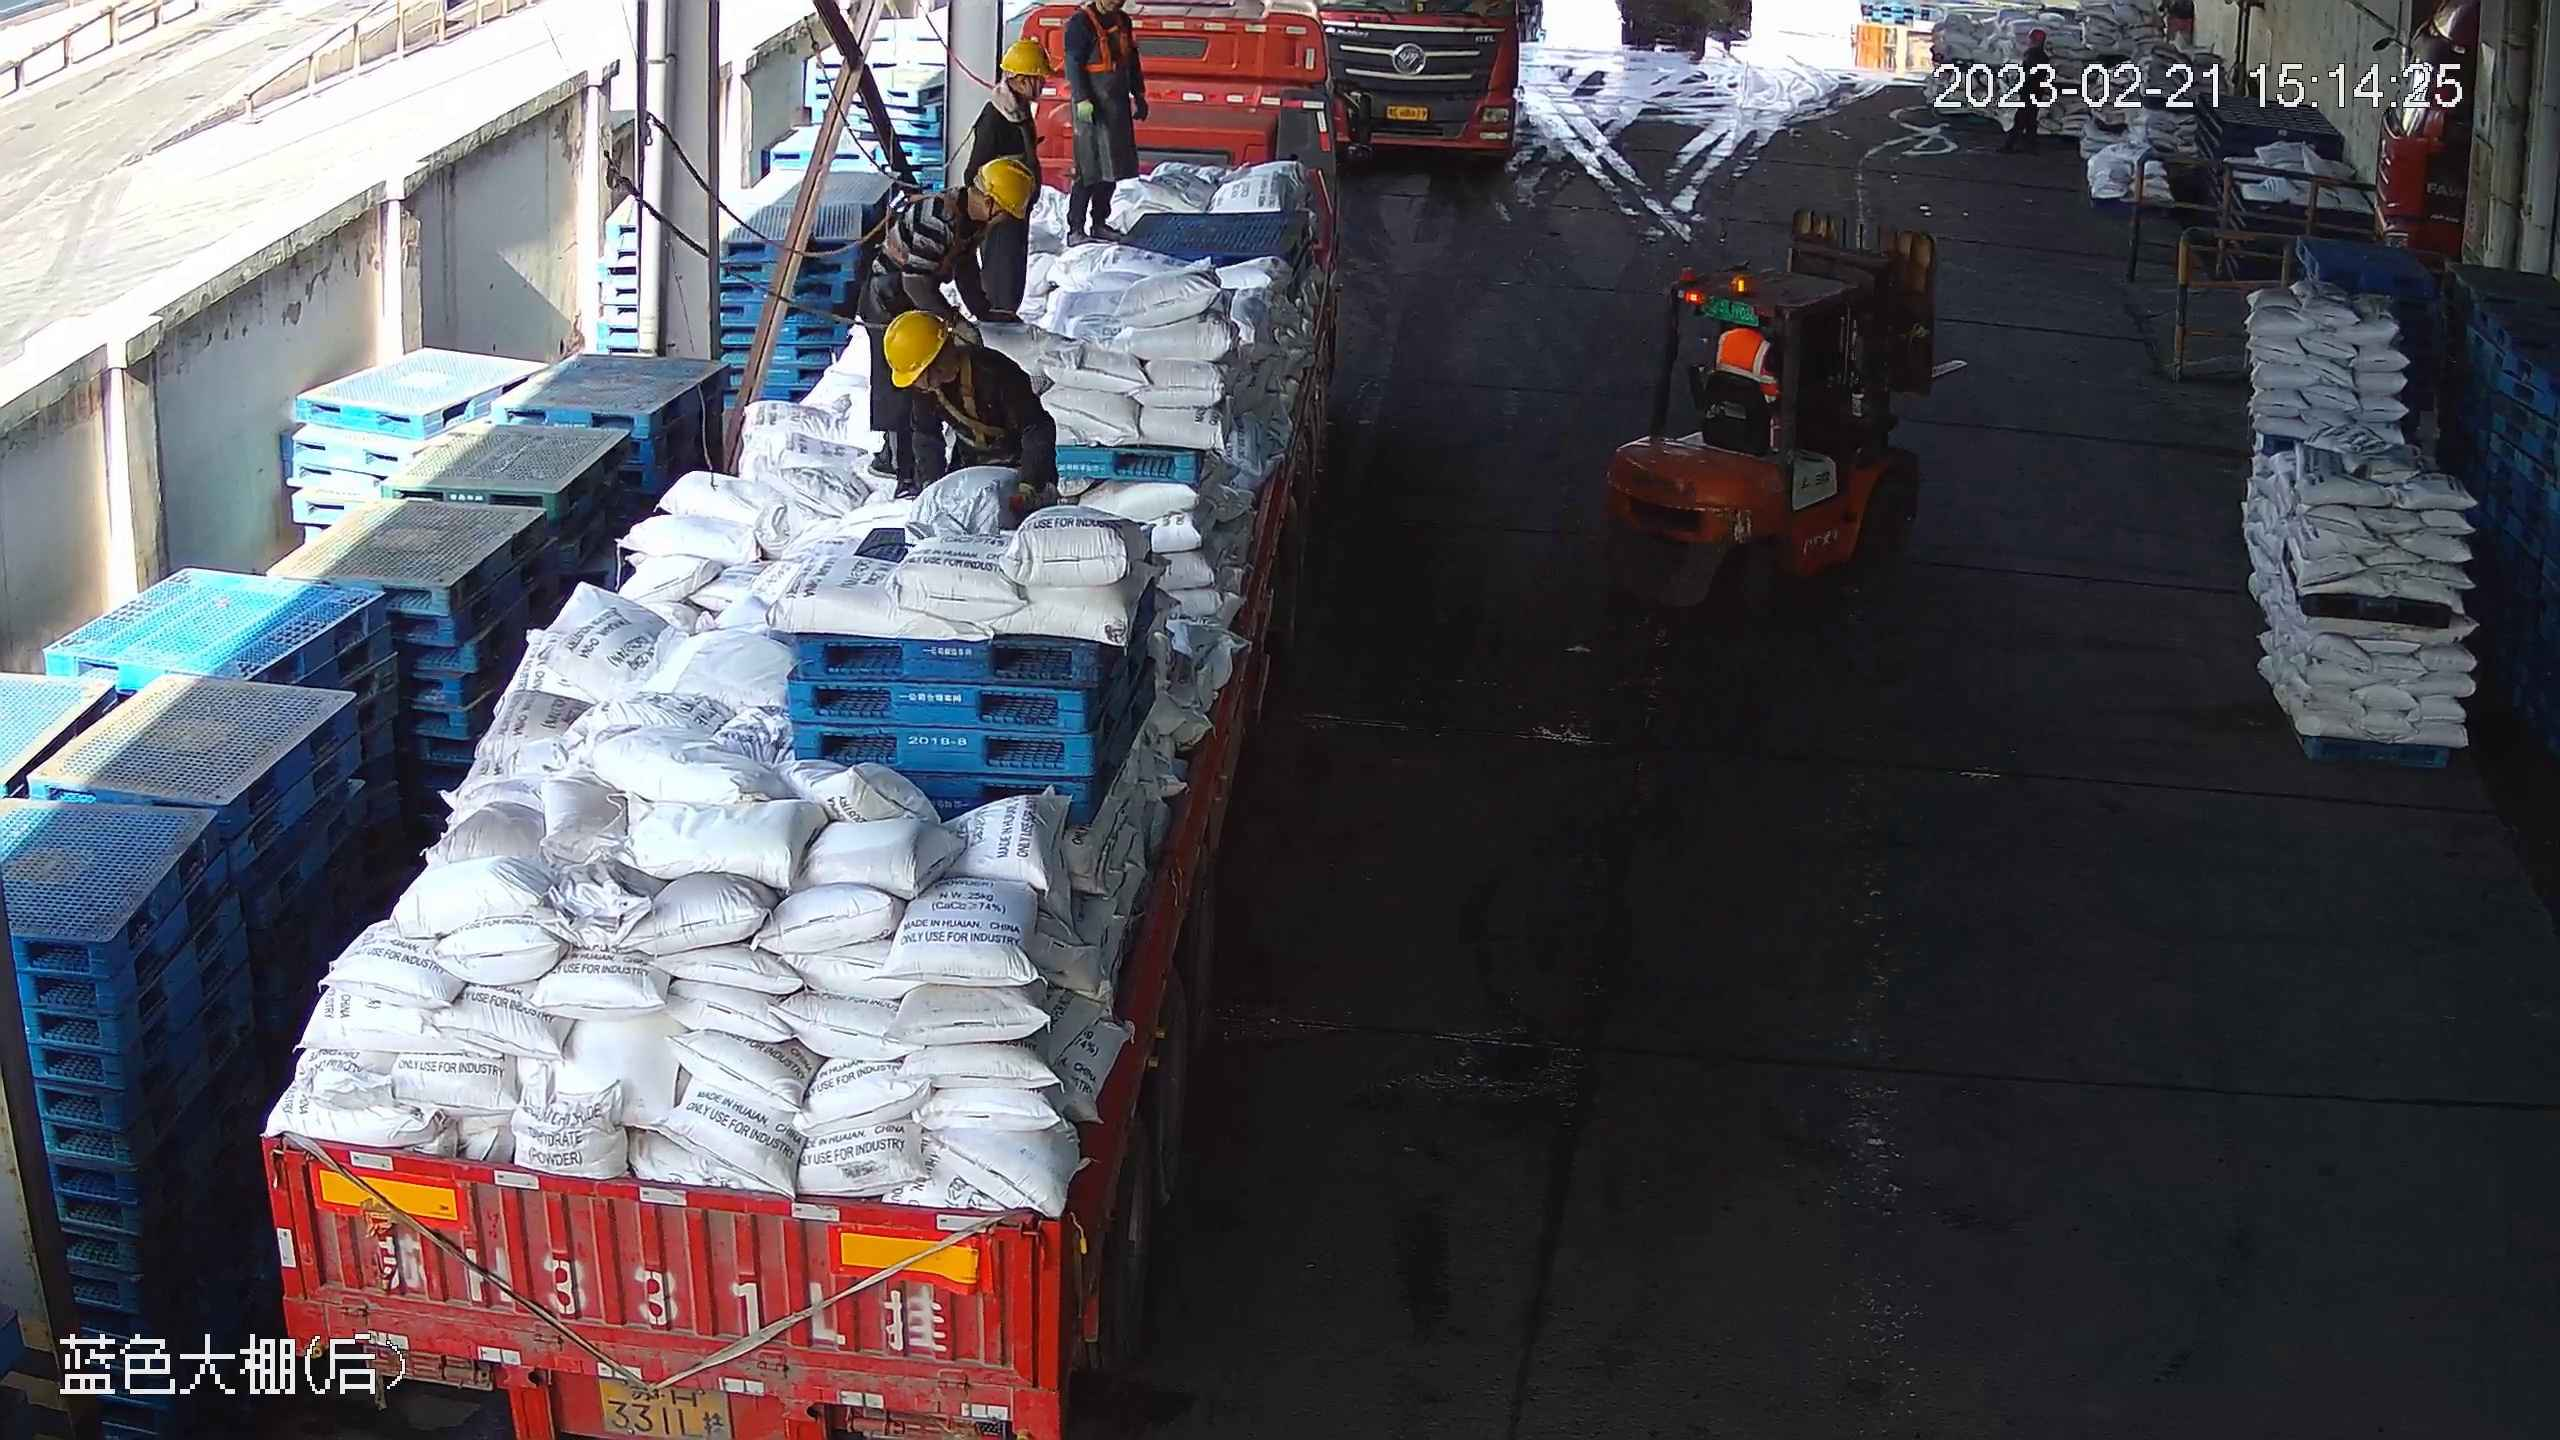belt: (882, 191, 977, 285), (932, 344, 1009, 452), (1079, 5, 1132, 73)
head: (883, 310, 1009, 417), (920, 157, 1036, 248), (973, 39, 1055, 141)
helmet: (883, 310, 949, 387), (973, 155, 1034, 219), (997, 38, 1056, 76)
people: (861, 156, 1035, 477), (882, 310, 1058, 514), (963, 39, 1055, 327), (1067, 1, 1150, 246)
truck: (260, 1, 1371, 1440), (1313, 1, 1519, 149)
